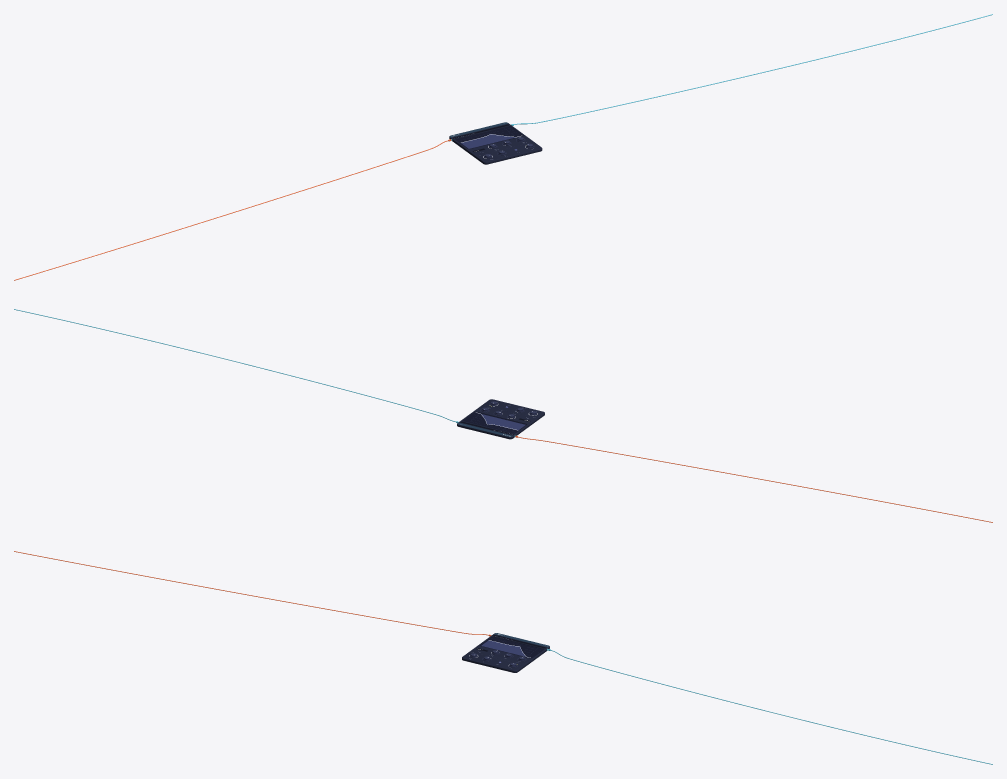
Rendered from node_audio_filter_wide.glb.
3 views of the same model, one above another, from view 1: azimuth 30°, elevation 25°; view 2: azimuth 150°, elevation 25°; view 3: azimuth 330°, elevation 25° (orthographic). The views are drawn at different scales.
Parts seen in each view (by area): view 1: card.003, cable.003, cable.002; view 2: card.003, cable.002, cable.003; view 3: card.003, cable.002, cable.003.
Boxes of the visible parts, x1,y1,x2,y2 form: card.003: [449, 123, 542, 164]; cable.003: [514, 14, 992, 124]; cable.002: [14, 140, 448, 280]; card.003: [457, 399, 544, 439]; cable.002: [518, 436, 992, 522]; cable.003: [14, 309, 455, 421]; card.003: [462, 634, 549, 672]; cable.002: [14, 551, 488, 635]; cable.003: [550, 650, 992, 764].
Size of the model in its own units: 7.94 by 0.0325 by 0.514.
